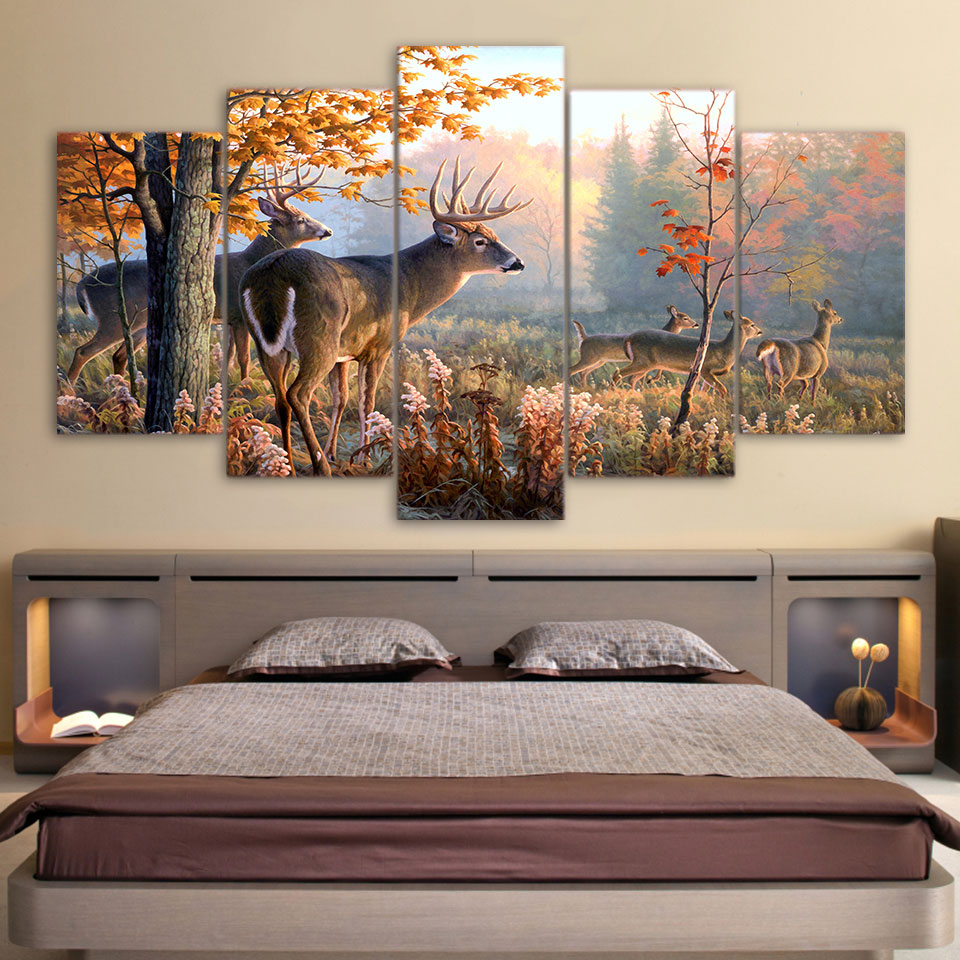lukisan: (59, 43, 930, 517)
